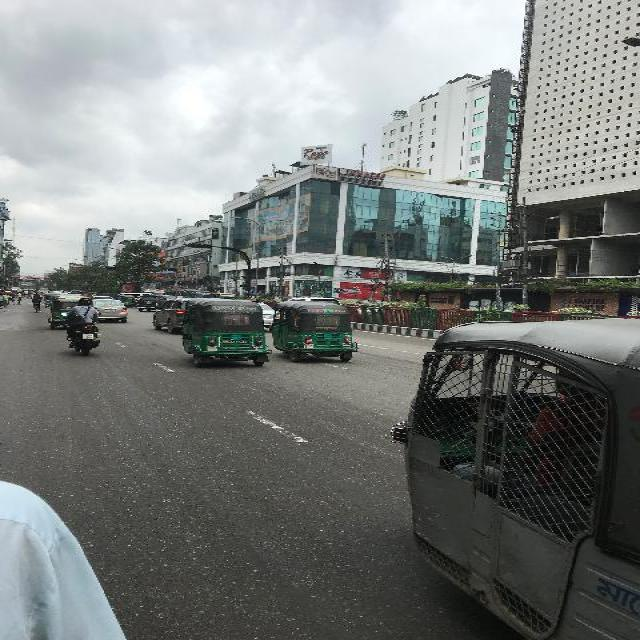10: (62, 323, 102, 357)
15: (136, 294, 164, 310)
17: (385, 315, 639, 639), (181, 297, 264, 365), (271, 301, 358, 364), (50, 292, 75, 332), (44, 293, 55, 307), (122, 294, 134, 306)
5: (95, 300, 129, 322)
Motorcycle: (31, 300, 41, 312)
Truck: (183, 288, 212, 298), (212, 291, 236, 299)
